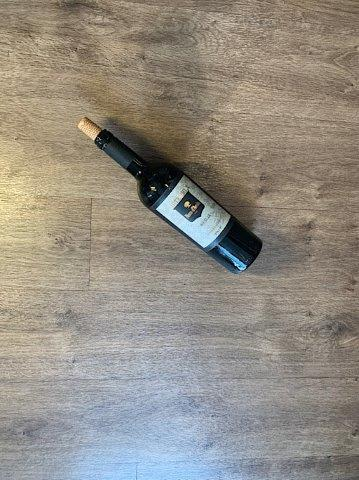botolkaca: (78, 118, 262, 273)
